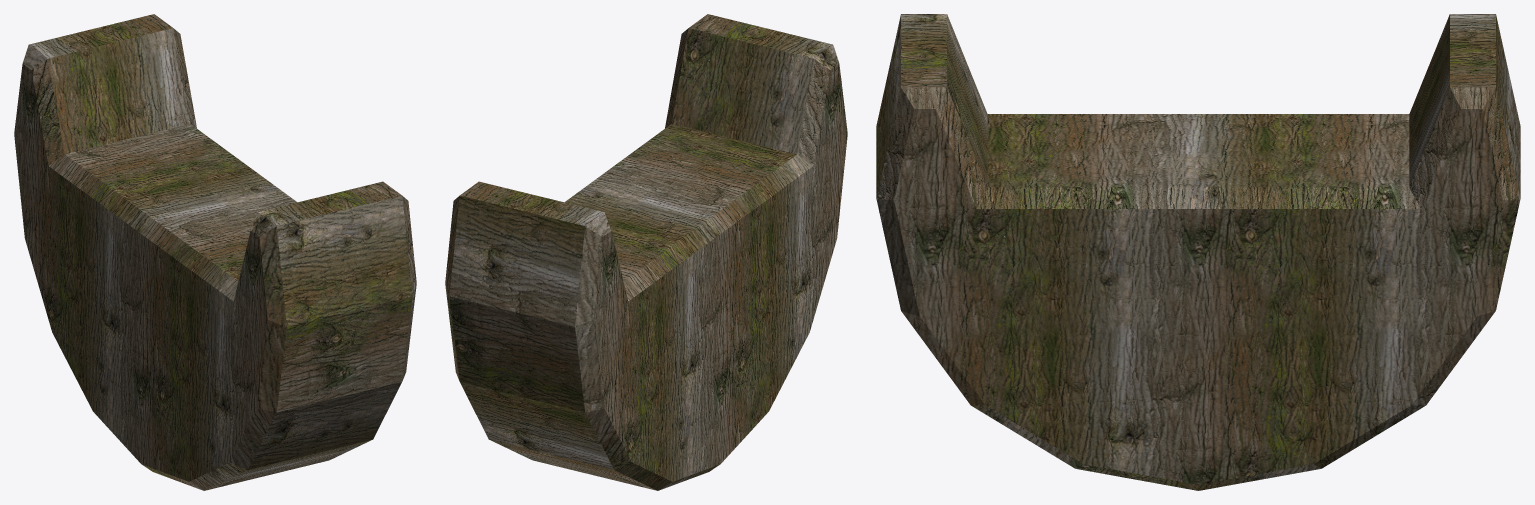
File: TreeColision.fbx
The picture shows the model from 3 angles, left to right: view 1: azimuth 30°, elevation 25°; view 2: azimuth 150°, elevation 25°; view 3: azimuth 270°, elevation 25°; orthographic projection. The views are drawn at different scales.
Visible parts, largest first — view 1: Circle; view 2: Circle; view 3: Circle.
Boxes of the visible parts, left/top/right/bottom form: Circle: left=14, top=14, right=416, bottom=490; Circle: left=445, top=14, right=847, bottom=490; Circle: left=876, top=14, right=1520, bottom=490.
Size of the model in its own units: 96 by 207 by 300.
